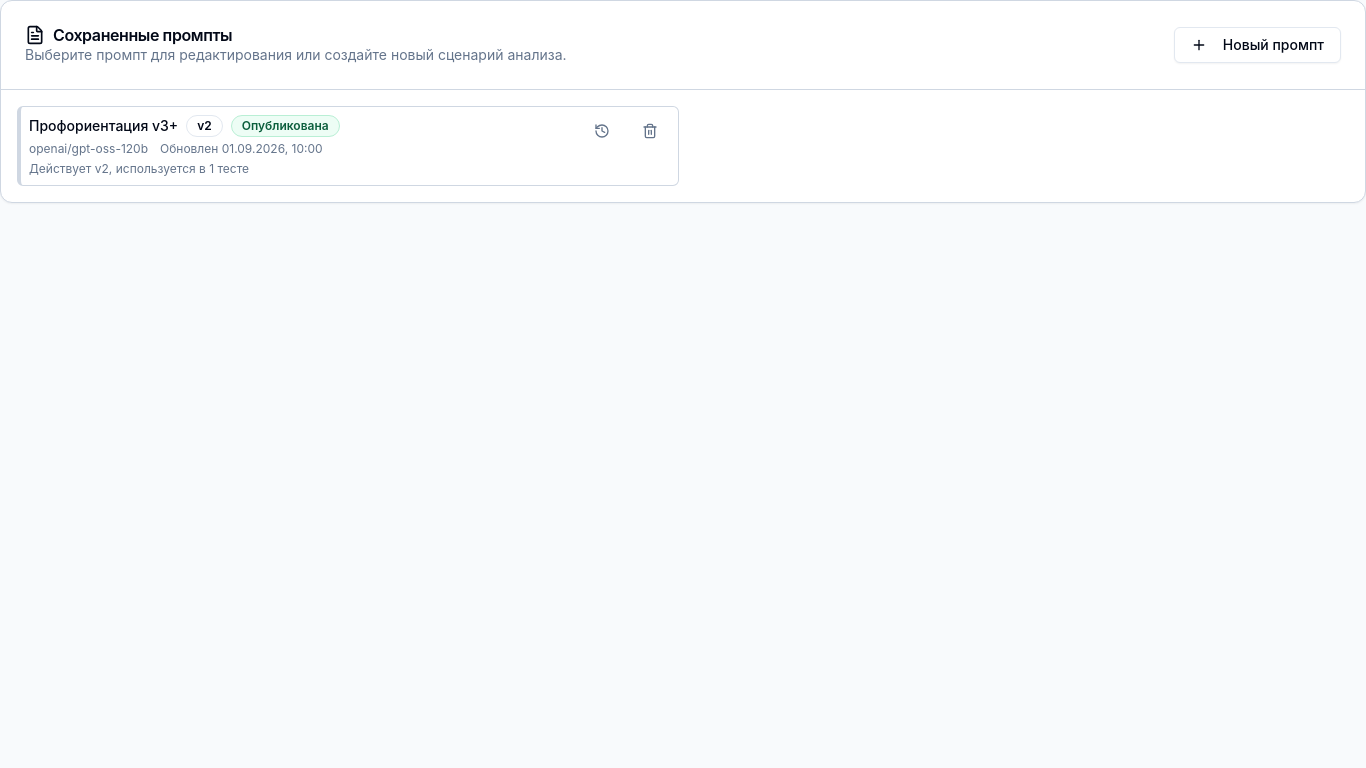
Scenario: PromptLibraryCard deletion › keeps the plain confirmation for a prompt no active test uses
The image size is (1366, 768).
Click the button named "Удалить промпт Профориентация v3+" at (650, 131), box [630,115,670,147]
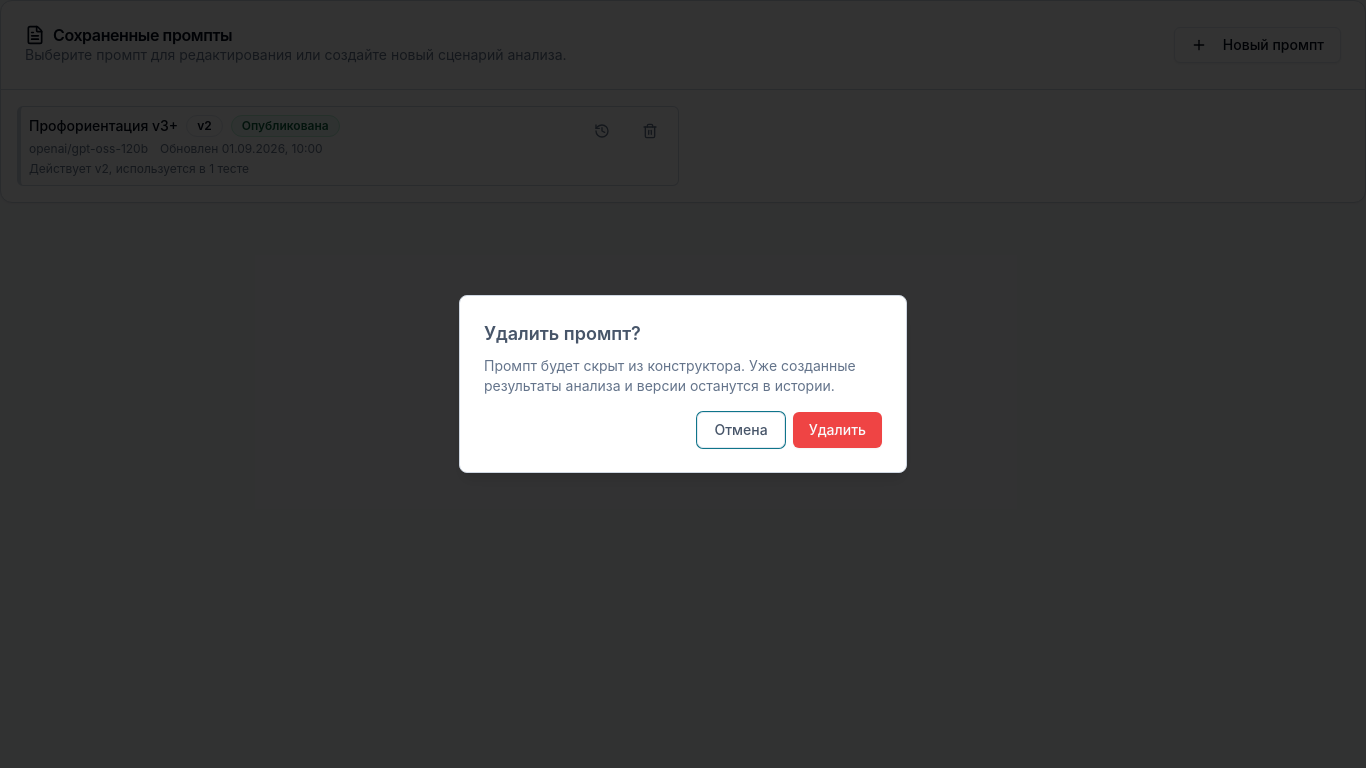
Expected: the heading "Удалить промпт?" is shown, [484,323,641,344]
Expected: the button "Удалить" is shown, [793,412,882,448]
